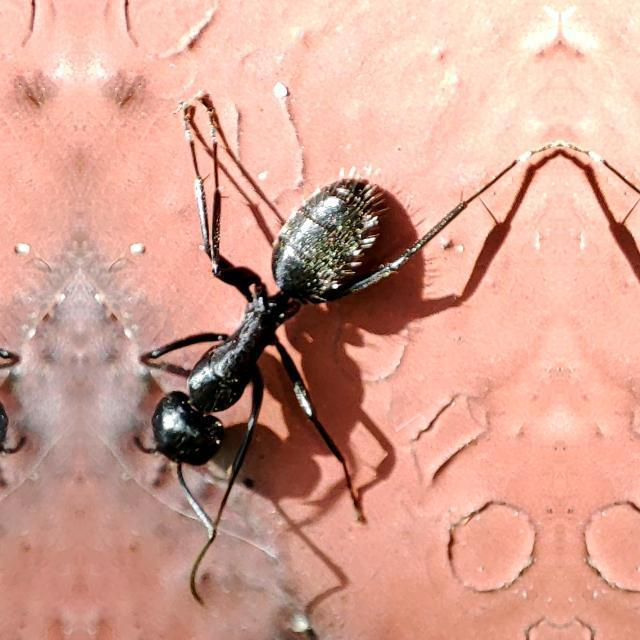Camponotus: (105, 150, 453, 548)
